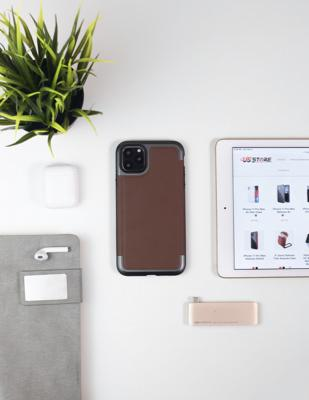Mobile Phone: (114, 138, 186, 276)
